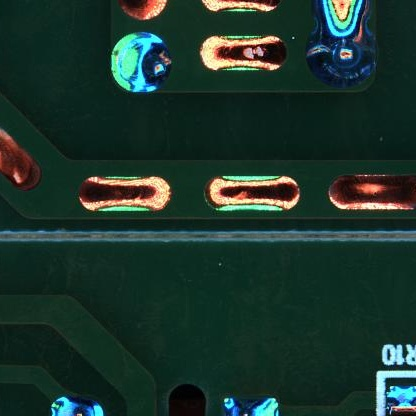spot: (307, 34, 381, 87), (110, 33, 172, 93), (220, 394, 279, 416), (48, 396, 106, 416)
